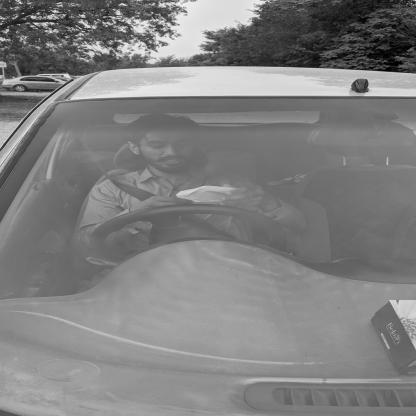seatbelt: (111, 114, 228, 227)
